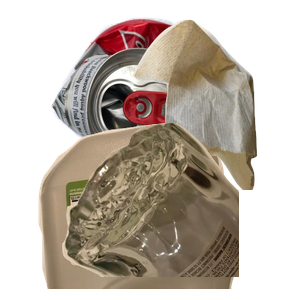glass: (60, 120, 300, 300)
metal: (48, 15, 251, 175)
plastic: (36, 120, 265, 300)
trash: (131, 17, 300, 197)
